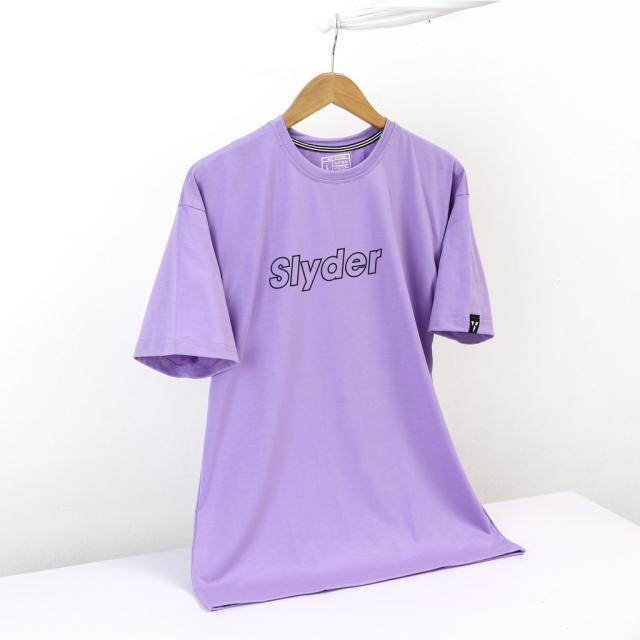Shirt: (128, 114, 532, 614)
